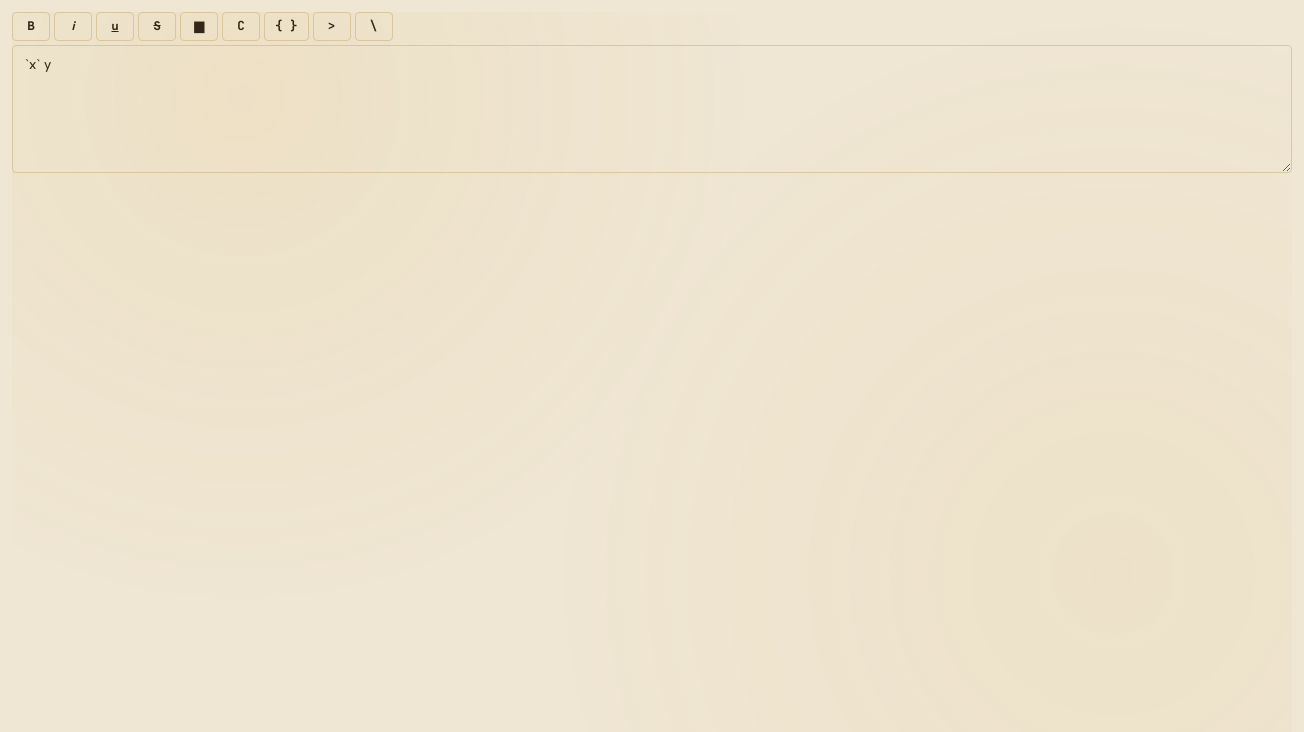
Test: MarkupTextarea › clears the refusal reason after a successful apply
Click the button titled "Bold". click: (31, 26)
box: [12,12,50,41]
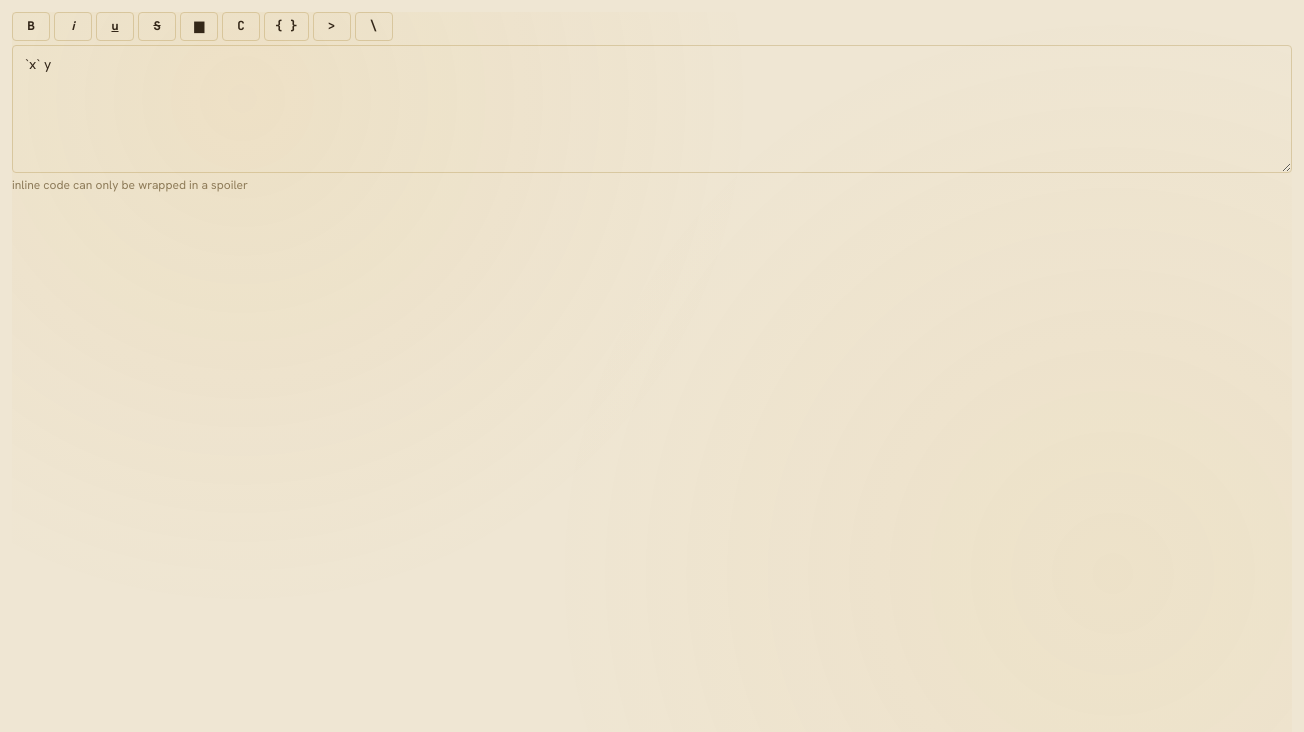
Expected: the text "inline code can only be wrapped in a spoiler" is shown, [12,177,248,193]
Click the button titled "Bold". click: (31, 26)
box: [12,12,50,41]
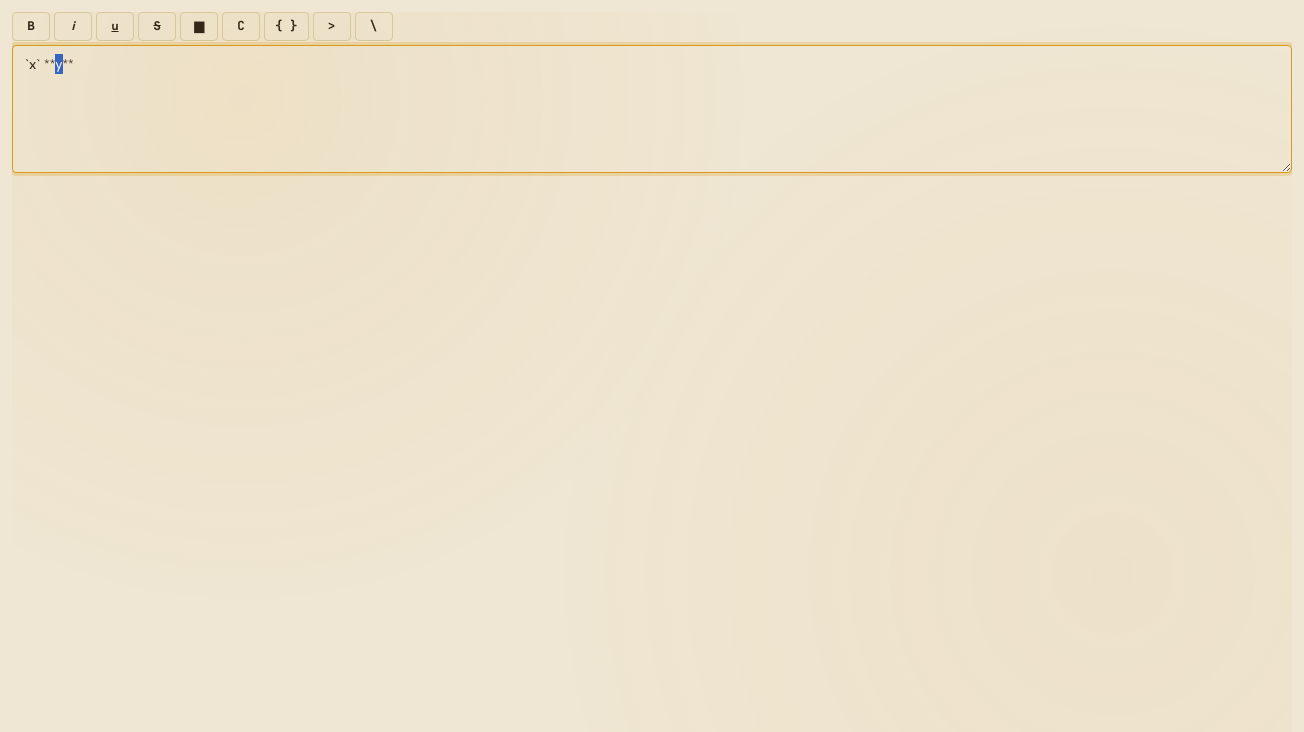
Expected: the text "inline code can only be wrapped in a spoiler" is gone
